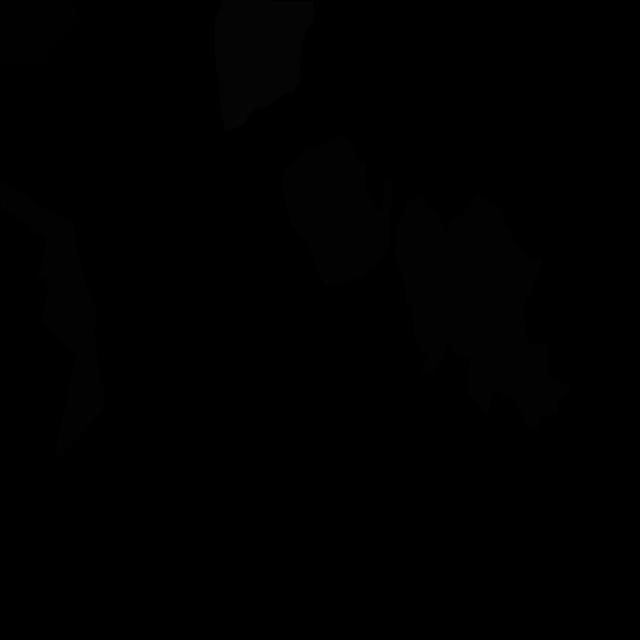cardboard: (392, 193, 570, 430), (0, 180, 105, 462), (282, 135, 392, 285)
rigid_plastic: (0, 0, 78, 66)
soft_plastic: (214, 0, 314, 131)
